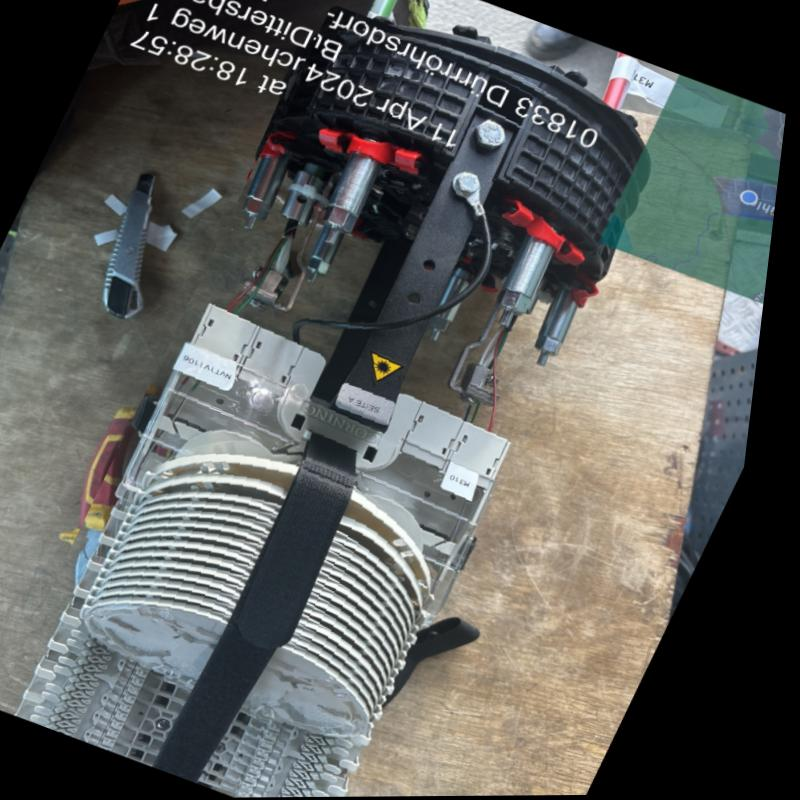NT-Muffen: (2, 2, 680, 800)
